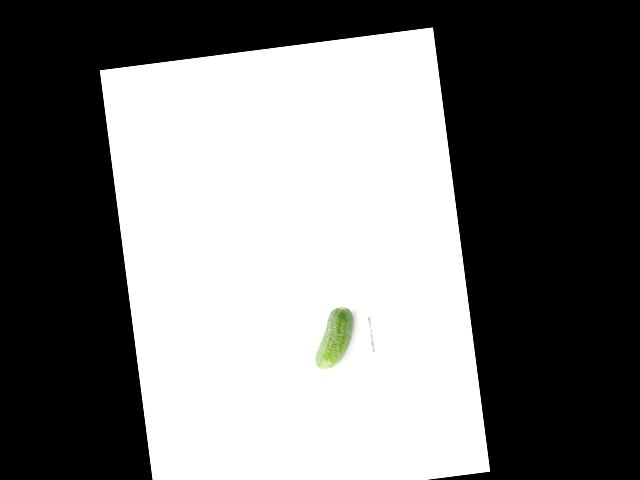cucumber: (309, 305, 359, 369)
